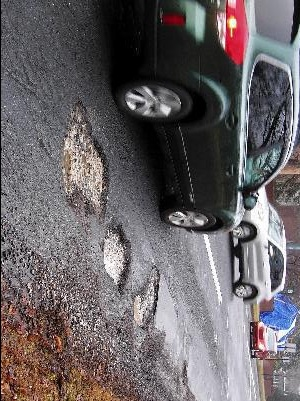pothole: (57, 101, 112, 223), (100, 221, 134, 293), (131, 264, 163, 331)
